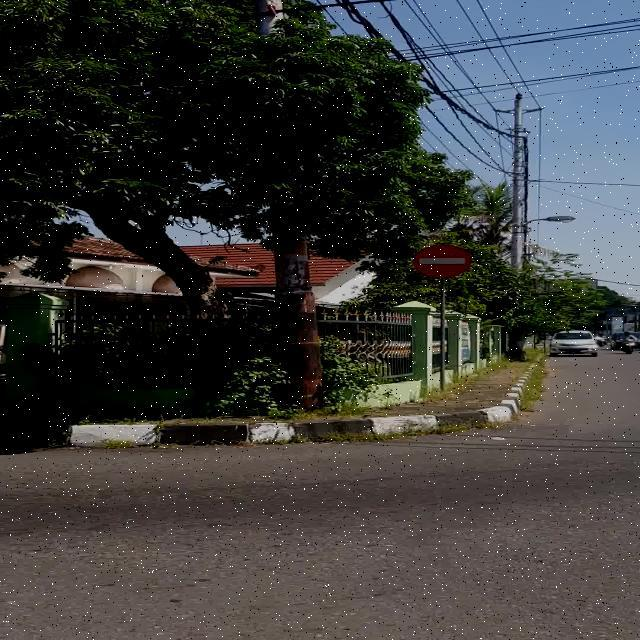Dilarang Masuk: (412, 245, 470, 278)
